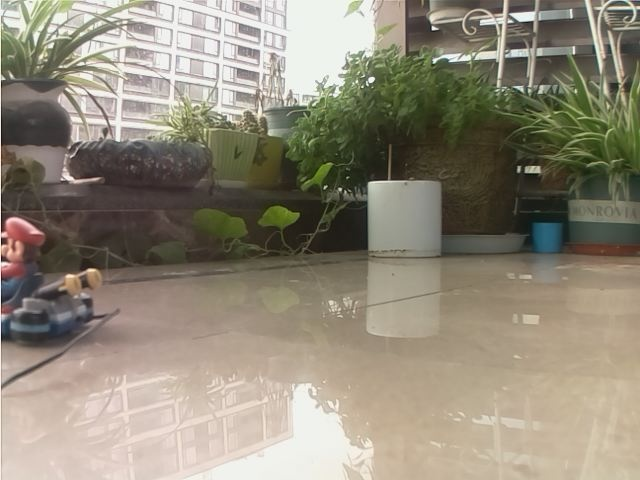mario: (1, 198, 141, 356)
